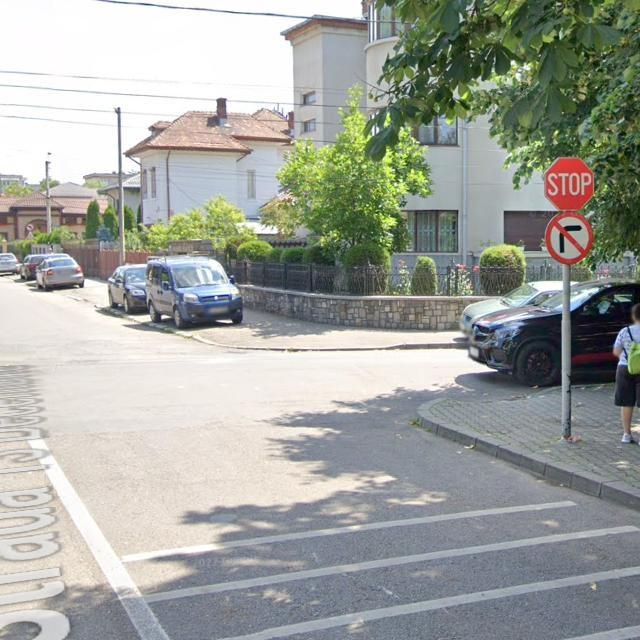prio_stop: (544, 154, 593, 212)
